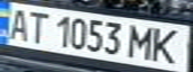0: (66, 15, 87, 52)
1: (48, 12, 72, 48)
3: (103, 19, 127, 56)
5: (84, 17, 106, 54)
A: (3, 6, 33, 42)
K: (148, 25, 187, 65)
M: (127, 22, 160, 61)
T: (24, 9, 51, 44)
